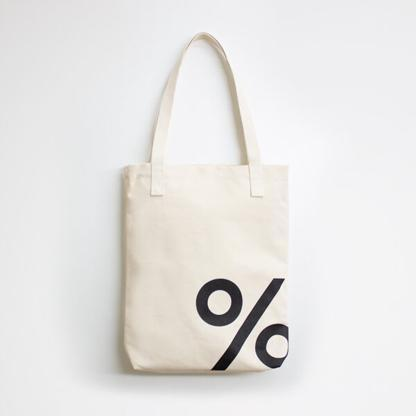not trash: (120, 33, 288, 369)
